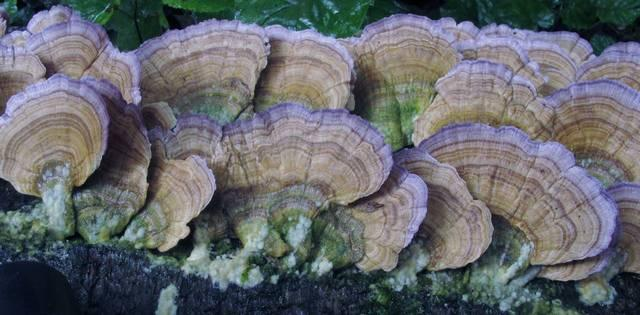Non-edible Mushroom: (1, 7, 637, 287)
